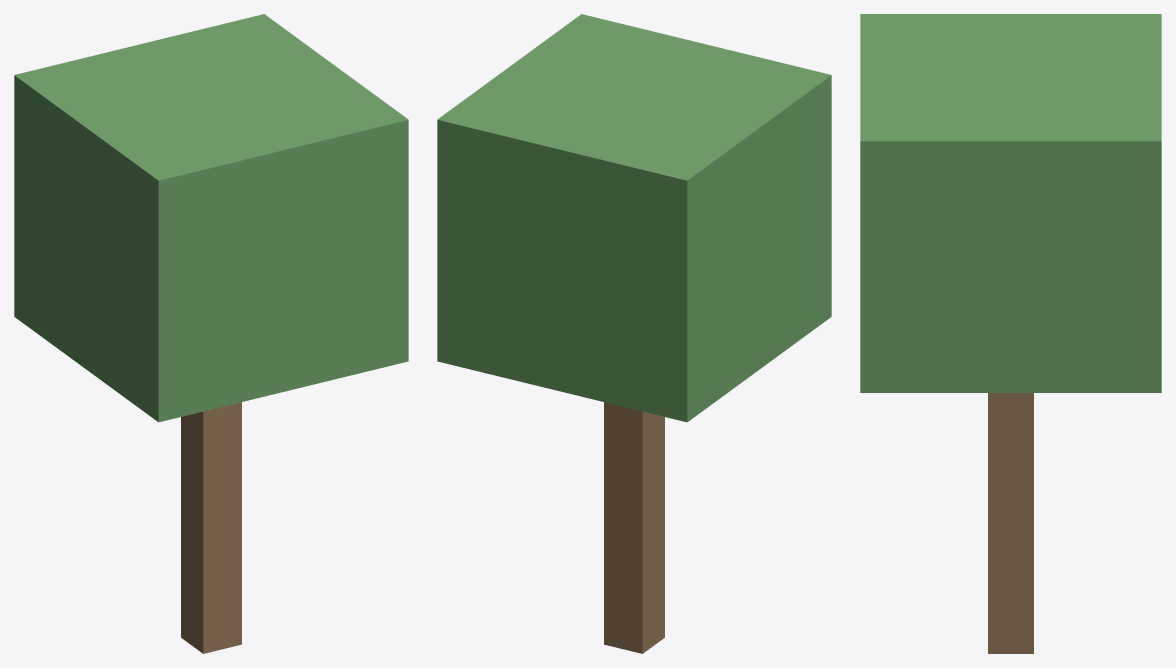
File: oak.glb
3 renders of one model, left to right at view 1: azimuth 30°, elevation 25°; view 2: azimuth 150°, elevation 25°; view 3: azimuth 270°, elevation 25°, orthographic. The views are drawn at different scales.
Bounding box in the file's own units: 2.6 × 5.4 × 2.6.
